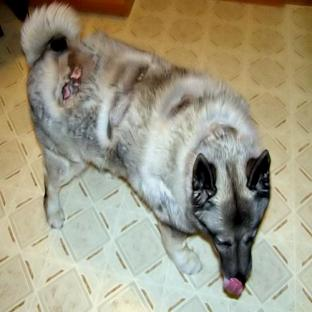Animal: (21, 2, 271, 294)
